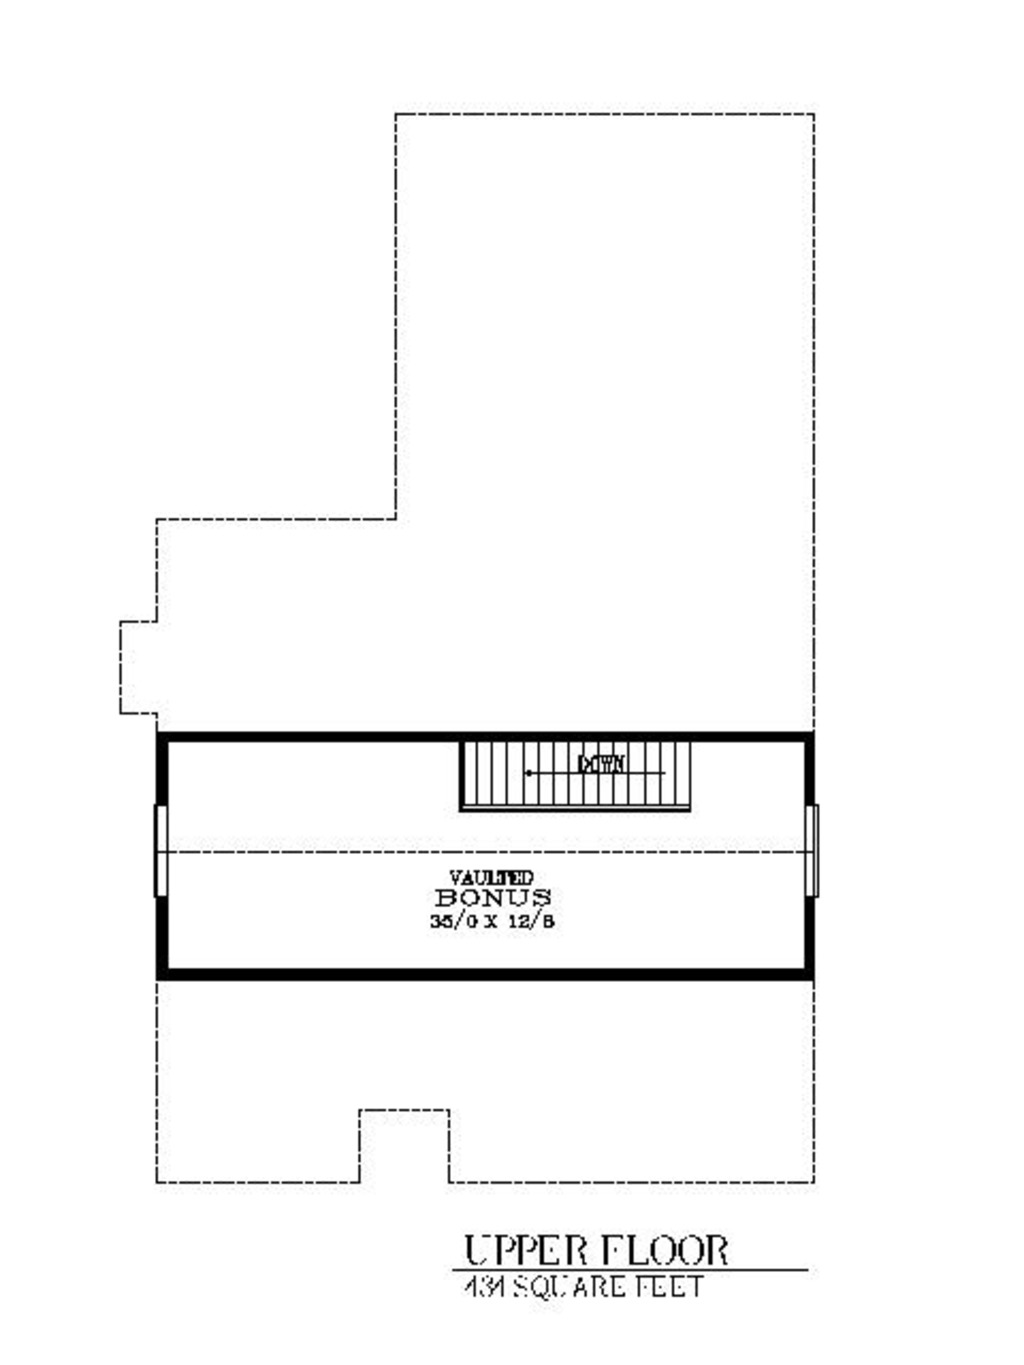stairs: (436, 734, 707, 819)
window: (151, 800, 176, 892), (807, 805, 819, 892)
